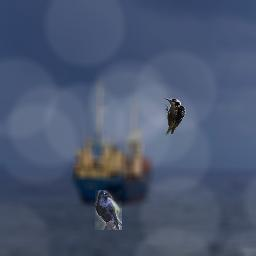Crow: (95, 190, 122, 230)
Woodpecker: (162, 96, 187, 136)
